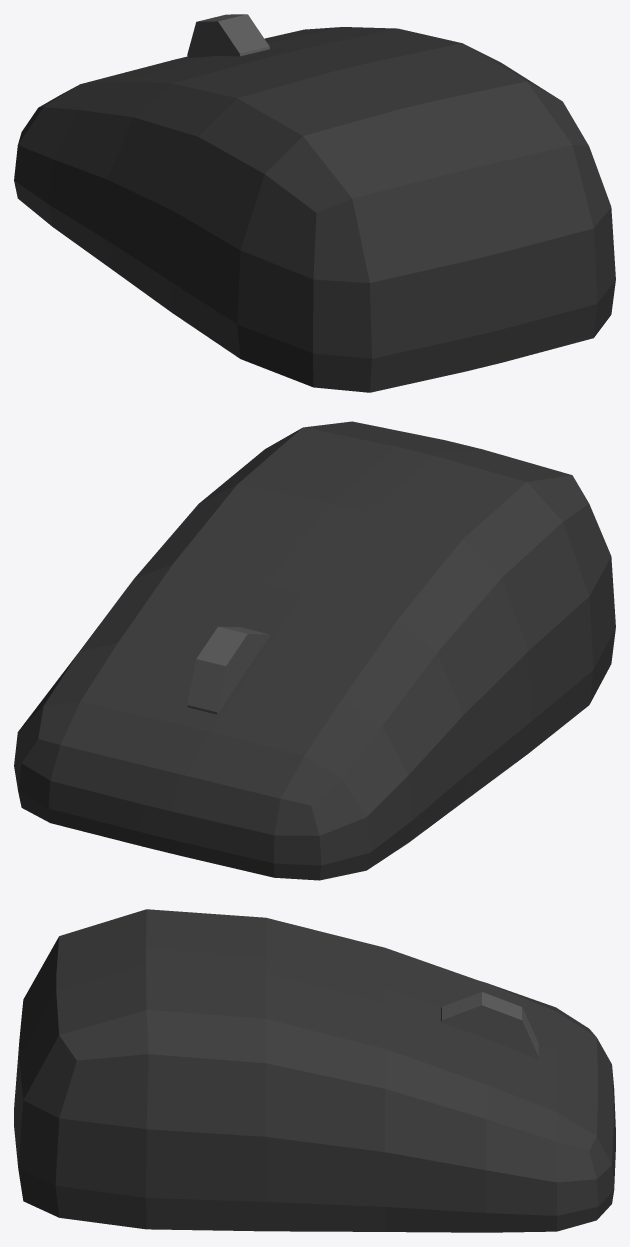
The model's file is PC_Mouse_01.fbx.
3 renders of one model, top to bottom at view 1: azimuth 30°, elevation 25°; view 2: azimuth 150°, elevation 25°; view 3: azimuth 270°, elevation 25°, orthographic. The views are drawn at different scales.
Visible parts, largest first — view 1: PC_Mouse_01; view 2: PC_Mouse_01; view 3: PC_Mouse_01.
Boxes of the visible parts, x1,y1,x2,y2 form: PC_Mouse_01: [14, 14, 615, 392]; PC_Mouse_01: [14, 421, 615, 880]; PC_Mouse_01: [14, 909, 615, 1232].
Bounding box in the file's own units: 4.94 × 2.89 × 7.68.
